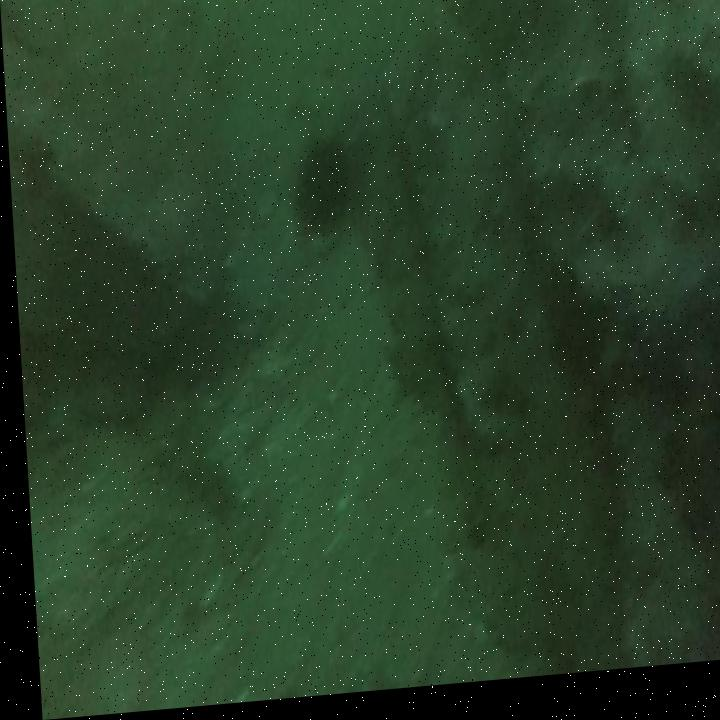echinus: (285, 129, 354, 256)
holothurian: (167, 439, 229, 525)
